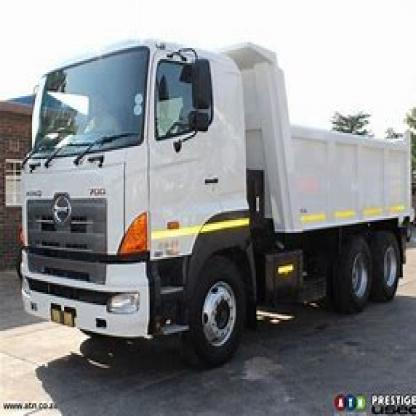dump_truck: (13, 15, 409, 366)
